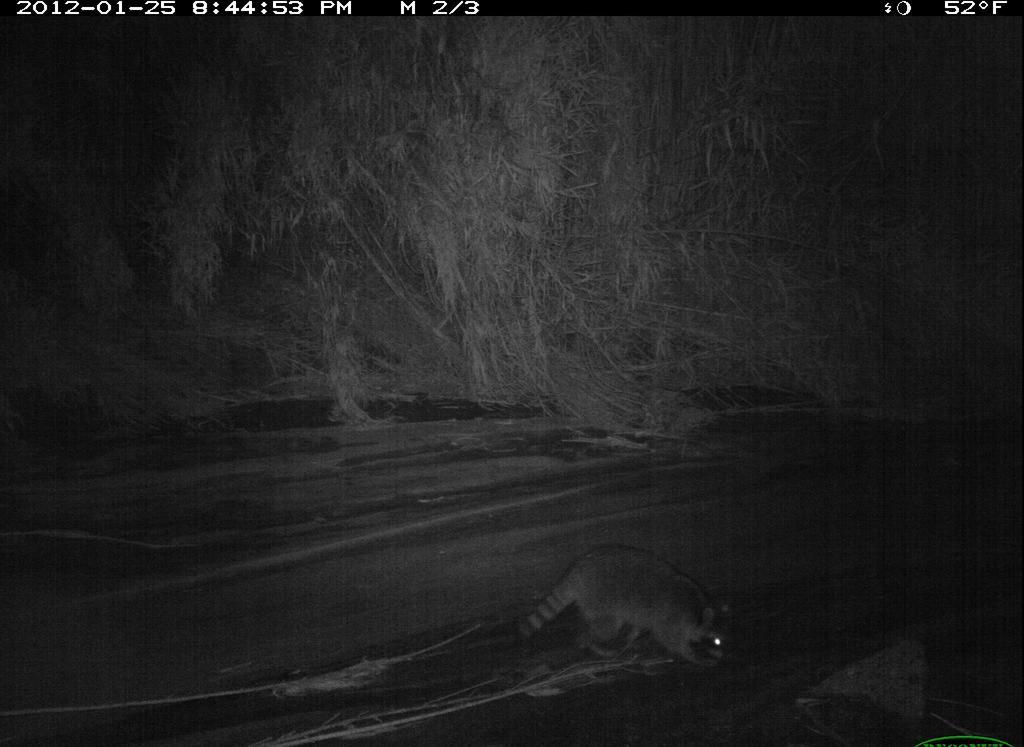raccoon: (510, 529, 747, 694)
